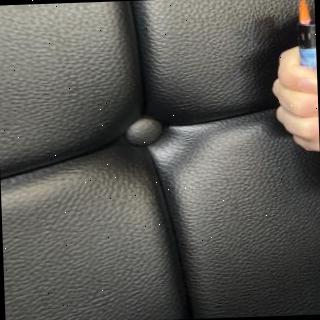fire: (297, 0, 311, 25)
